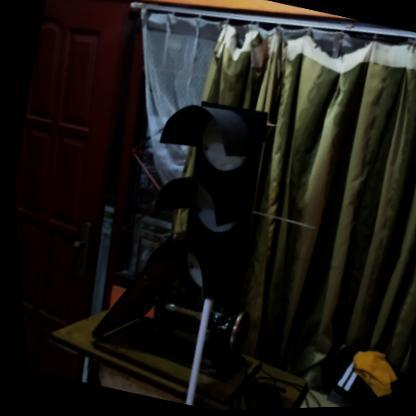green: (120, 94, 278, 312)
